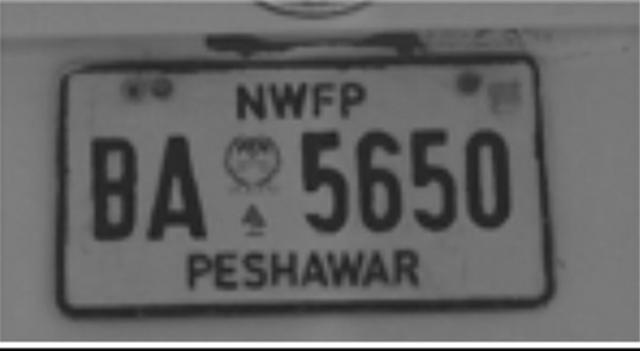Number: (87, 128, 525, 244)
